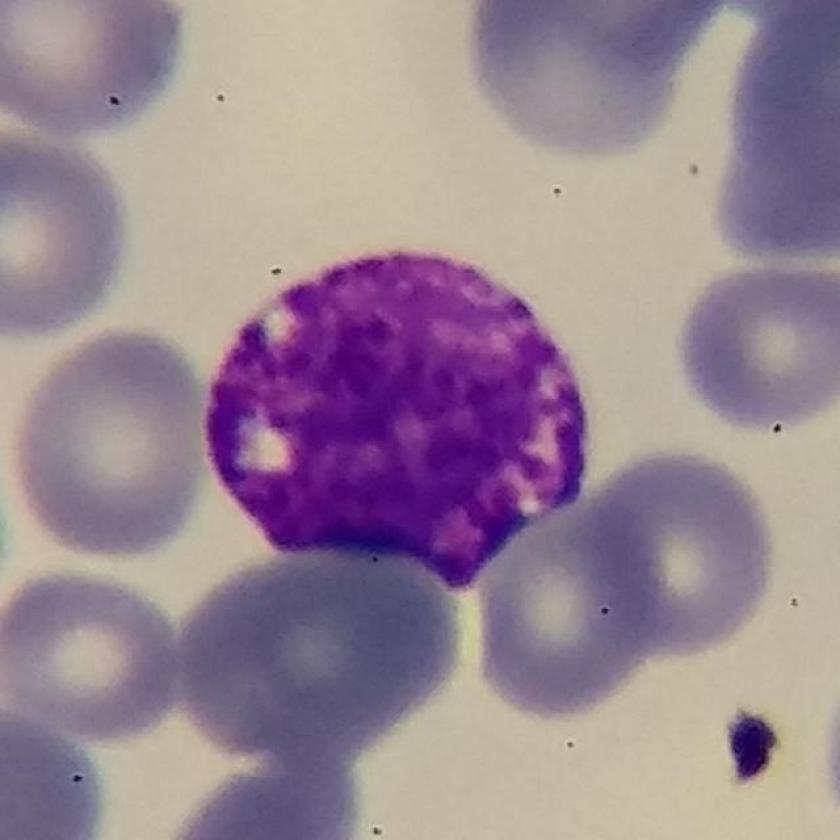basophil: (202, 240, 605, 601)
